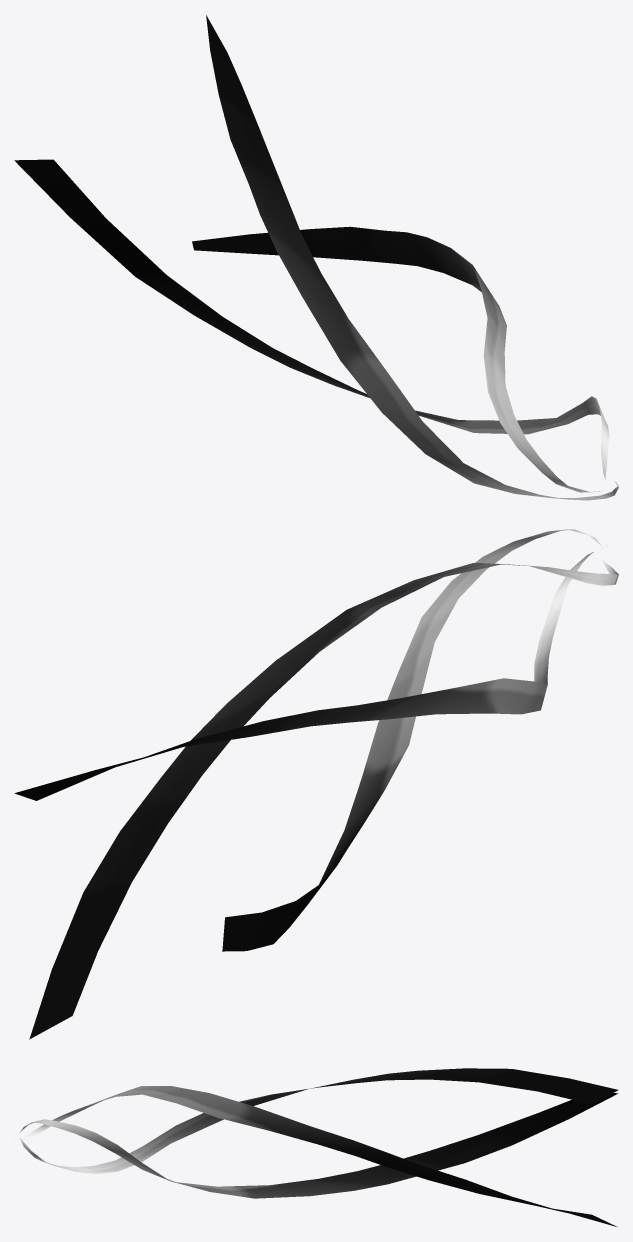
File: luoxuan.fbx
3 renders of one model, top to bottom at view 1: azimuth 30°, elevation 25°; view 2: azimuth 150°, elevation 25°; view 3: azimuth 270°, elevation 25°, orthographic. The views are drawn at different scales.
Visible parts, largest first — view 1: polySurface8; view 2: polySurface8; view 3: polySurface8.
Boxes of the visible parts, box(x1,y1,x2,y2) form: polySurface8: box(14, 15, 618, 500); polySurface8: box(14, 529, 618, 1039); polySurface8: box(14, 1068, 618, 1227).
Size of the model in its own units: 2.95 by 2.94 by 11.3.
